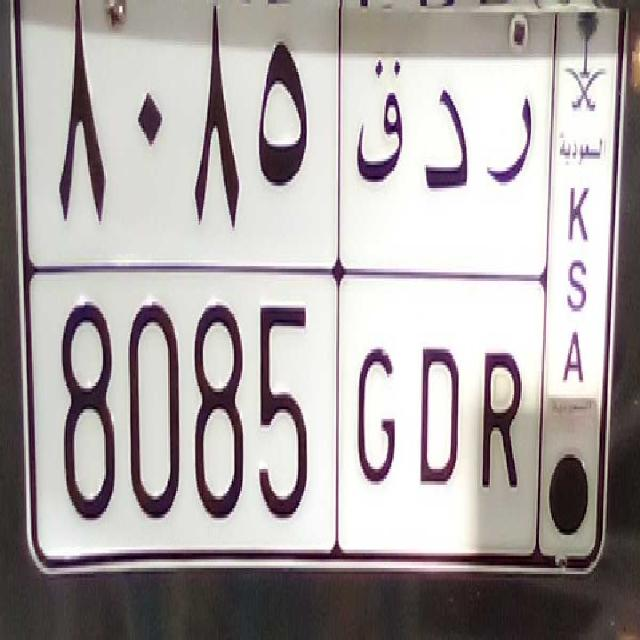license_plate: (40, 256, 537, 562)
